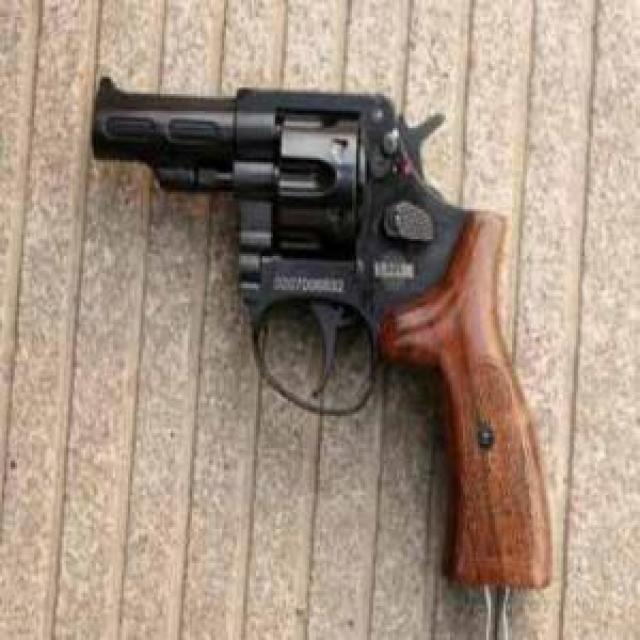pistol: (91, 77, 554, 591)
